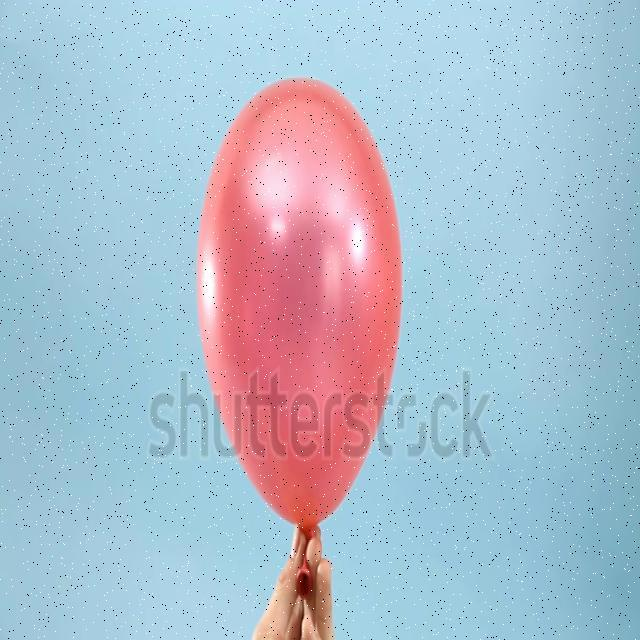red: (195, 75, 402, 542)
